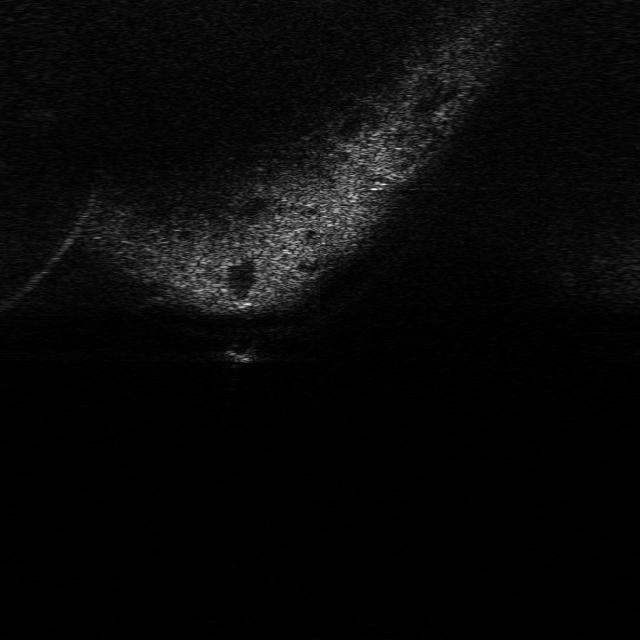cube: (218, 338, 263, 368)
